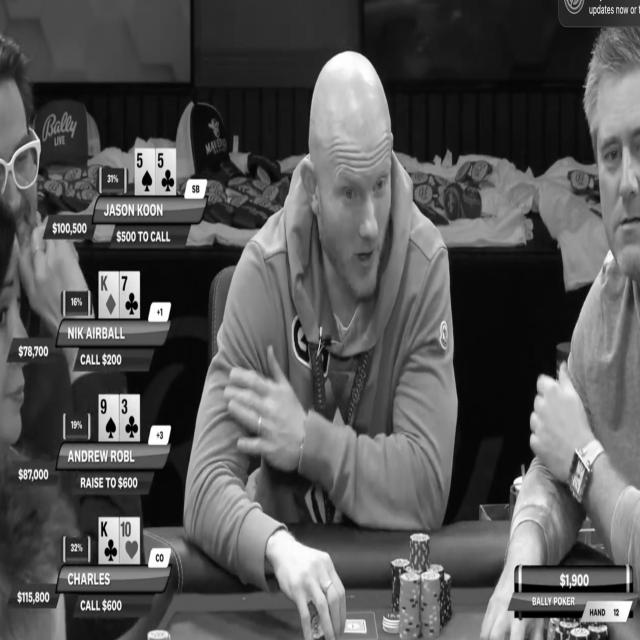10H: (120, 518, 139, 564)
3C: (120, 395, 140, 440)
5C: (157, 150, 175, 193)
5S: (135, 150, 154, 194)
7C: (121, 272, 139, 316)
9S: (100, 396, 118, 441)
KC: (100, 518, 118, 564)
KD: (100, 273, 118, 318)
